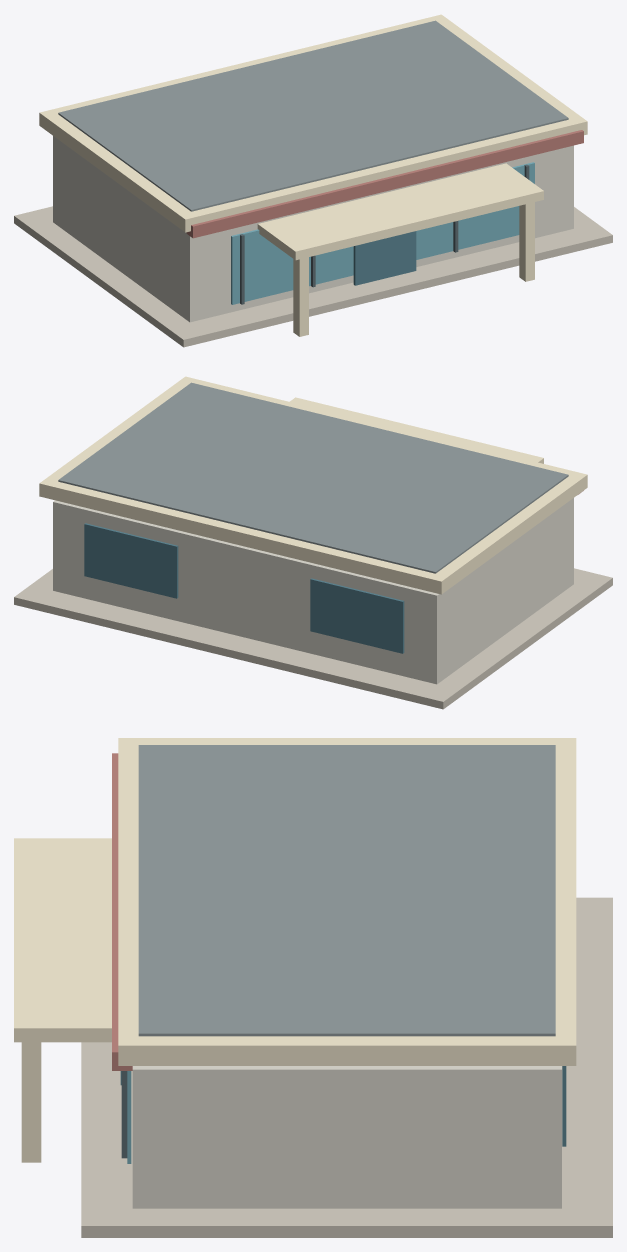
Rendered from clubhouse.glb.
3 renders of one model, top to bottom at view 1: azimuth 30°, elevation 25°; view 2: azimuth 150°, elevation 25°; view 3: azimuth 270°, elevation 25°, orthographic. The views are drawn at different scales.
Parts seen in each view (by area): view 1: GEO-club roof inset, GEO-club low-rise volume, GEO-club base, GEO-club parapet, GEO-club shaded portico, GEO-club front glazing, GEO-club fascia, GEO-club entrance glazing, GEO-club portico column, GEO-club portico column.001; view 2: GEO-club roof inset, GEO-club low-rise volume, GEO-club base, GEO-club parapet, GEO-club end side glazing, GEO-club end side glazing.001, GEO-club shaded portico; view 3: GEO-club roof inset, GEO-club low-rise volume, GEO-club base, GEO-club parapet, GEO-club shaded portico, GEO-club portico column.001, GEO-club fascia.
Part boxes in pixels (box(x1,y1,x2,y2)): GEO-club roof inset: box(58, 20, 568, 211); GEO-club low-rise volume: box(53, 136, 573, 322); GEO-club base: box(14, 206, 612, 347); GEO-club parapet: box(39, 14, 587, 232); GEO-club shaded portico: box(257, 163, 543, 260); GEO-club front glazing: box(231, 162, 534, 304); GEO-club fascia: box(186, 130, 583, 238); GEO-club entrance glazing: box(353, 231, 416, 285); GEO-club portico column: box(293, 257, 308, 336); GEO-club portico column.001: box(519, 202, 534, 281); GEO-club roof inset: box(58, 382, 568, 573); GEO-club low-rise volume: box(53, 498, 573, 684); GEO-club base: box(14, 568, 612, 709); GEO-club parapet: box(39, 376, 587, 594); GEO-club end side glazing: box(310, 578, 404, 653); GEO-club end side glazing.001: box(84, 523, 178, 598); GEO-club shaded portico: box(289, 397, 543, 463); GEO-club roof inset: box(138, 745, 555, 1036); GEO-club low-rise volume: box(132, 1066, 561, 1208); GEO-club base: box(81, 897, 612, 1237); GEO-club parapet: box(118, 738, 576, 1065); GEO-club shaded portico: box(14, 838, 111, 1042); GEO-club portico column.001: box(21, 1042, 41, 1162); GEO-club fascia: box(112, 753, 132, 1070).
Bounding box in the file's own units: 19 × 4.97 × 14.65.
